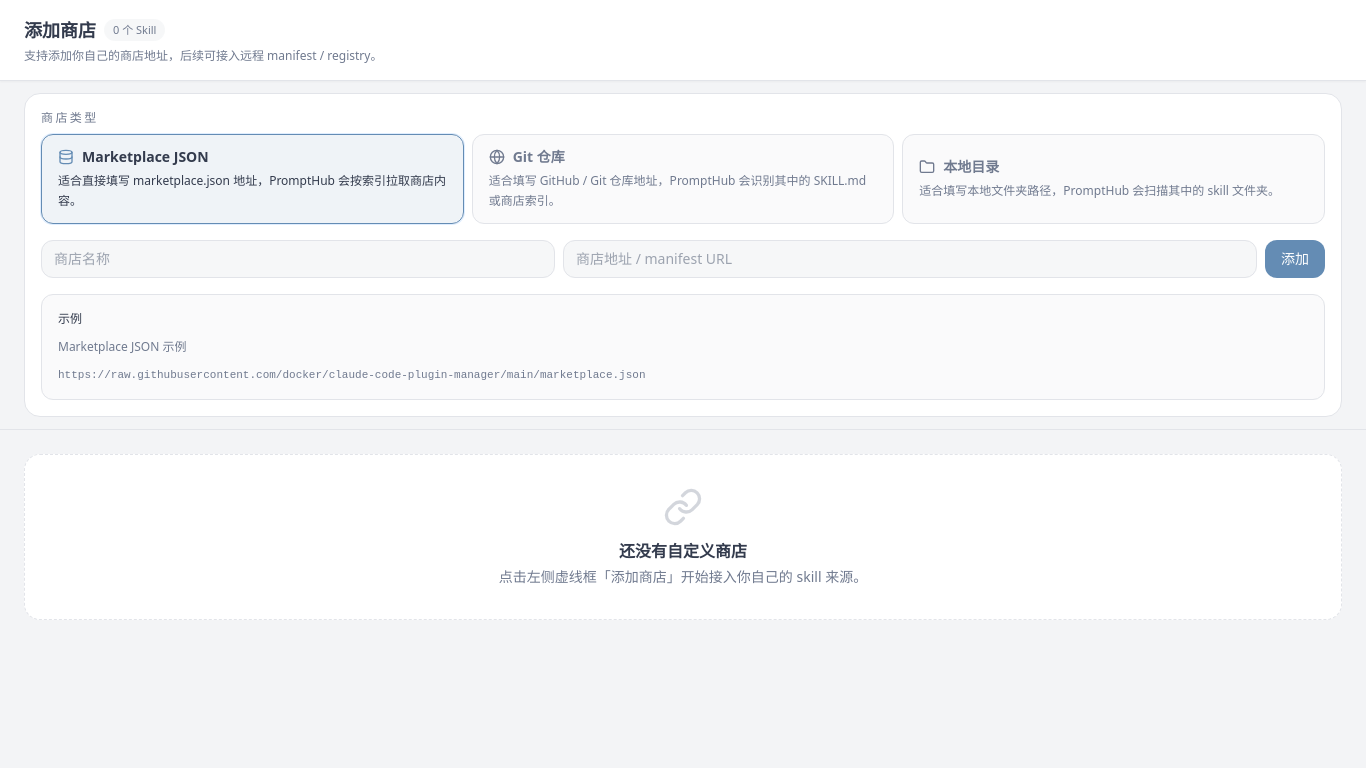
Test: SkillStore custom sources › renders localized branch helper copy
Click the button "Git 仓库".
click(683, 179)  # box [472, 134, 894, 224]
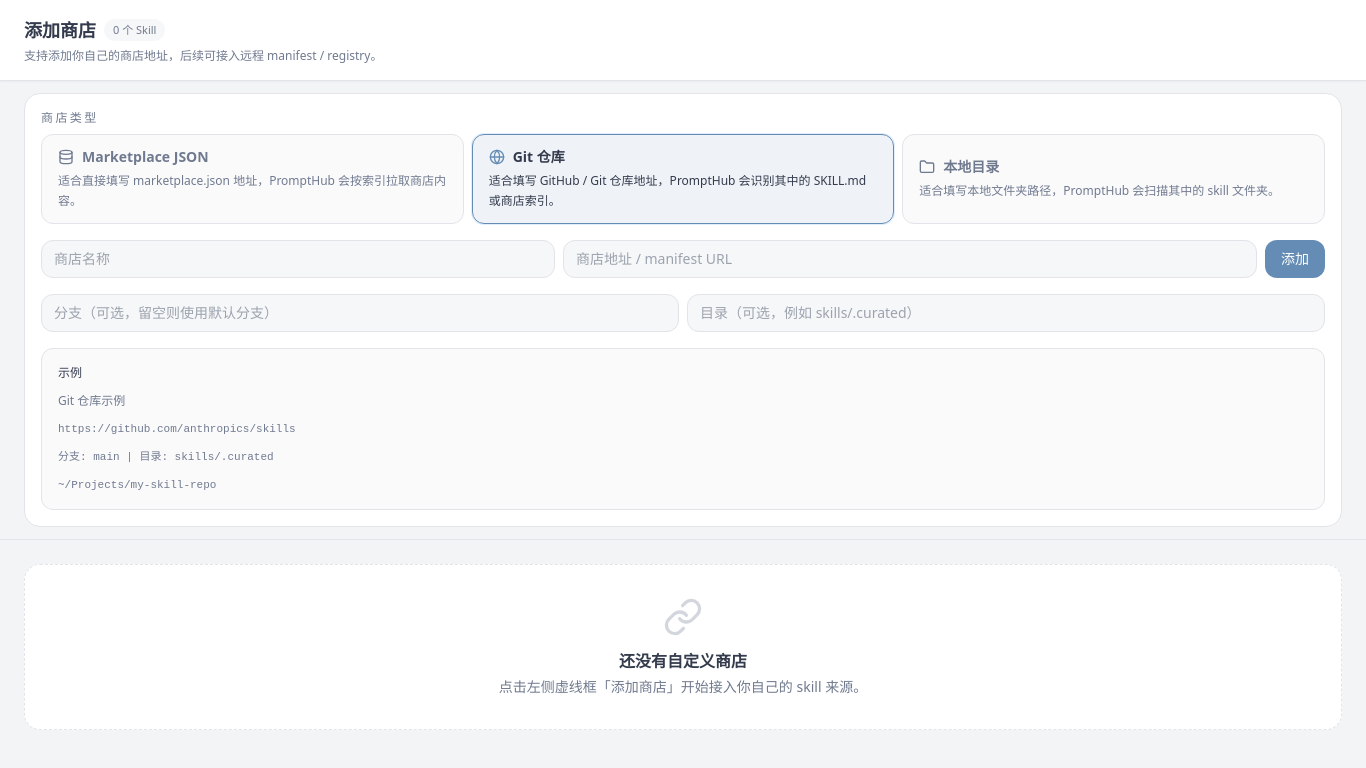
Type "https://github.com/anthropics/skills" into the field with placeholder "商店地址 / manifest URL".
click(910, 259); type("https://github.com/anthropics/skills")  # box [563, 240, 1257, 278]
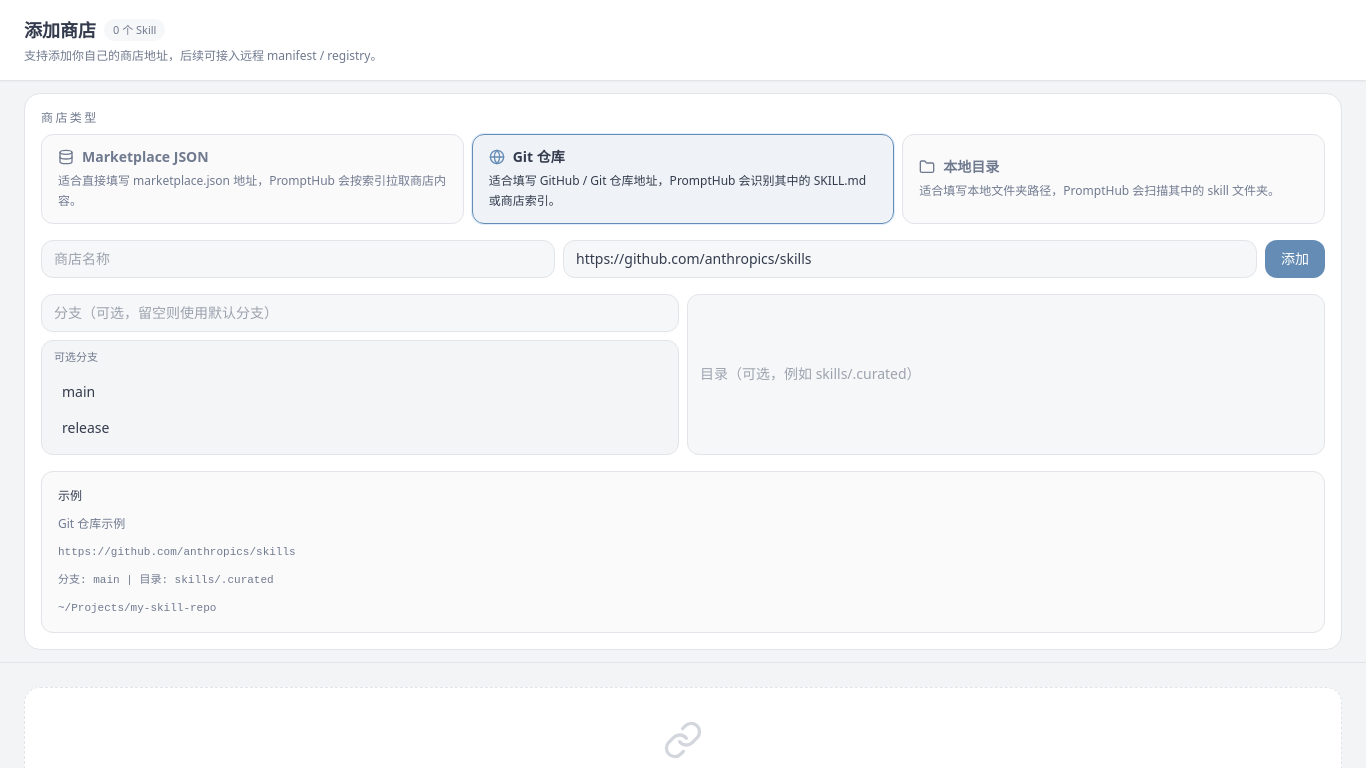
Expected: the field with placeholder "分支（可选，留空则使用默认分支）" is shown, [41, 294, 679, 332]
Expected: the field with placeholder "目录（可选，例如 skills/.curated）" is shown, [687, 294, 1325, 454]
Expected: the text "可选分支" is shown, [54, 349, 98, 364]
